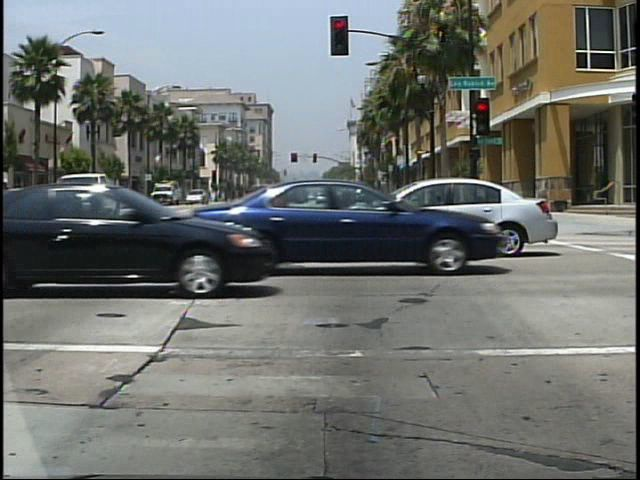person: (2, 172, 19, 230)
